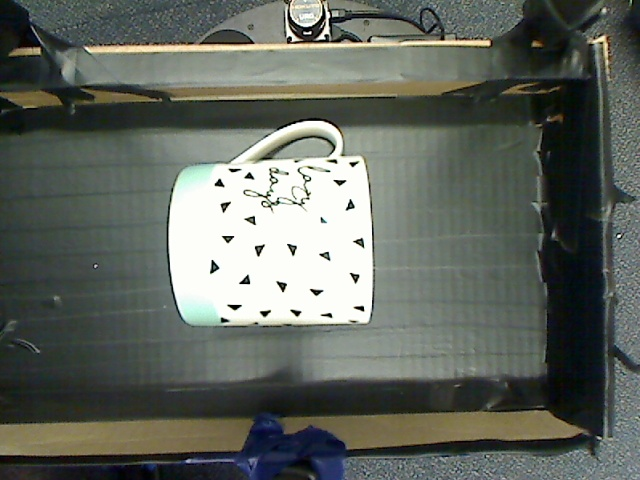mug: (154, 114, 390, 345)
